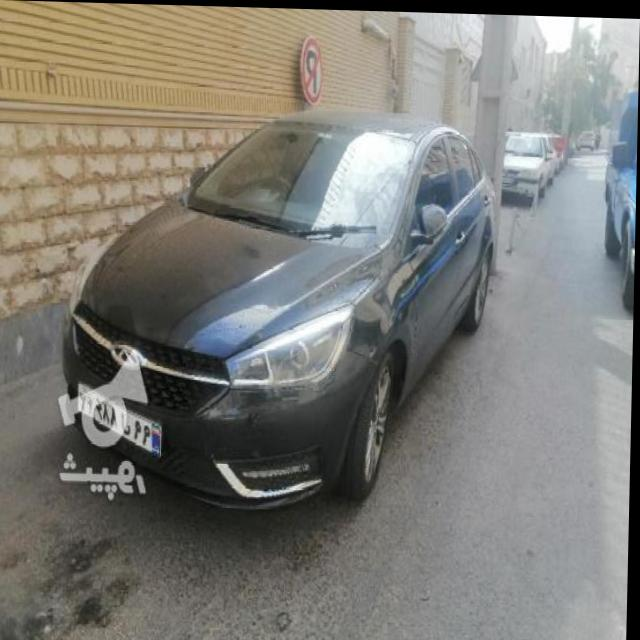licence: (78, 377, 169, 452)
